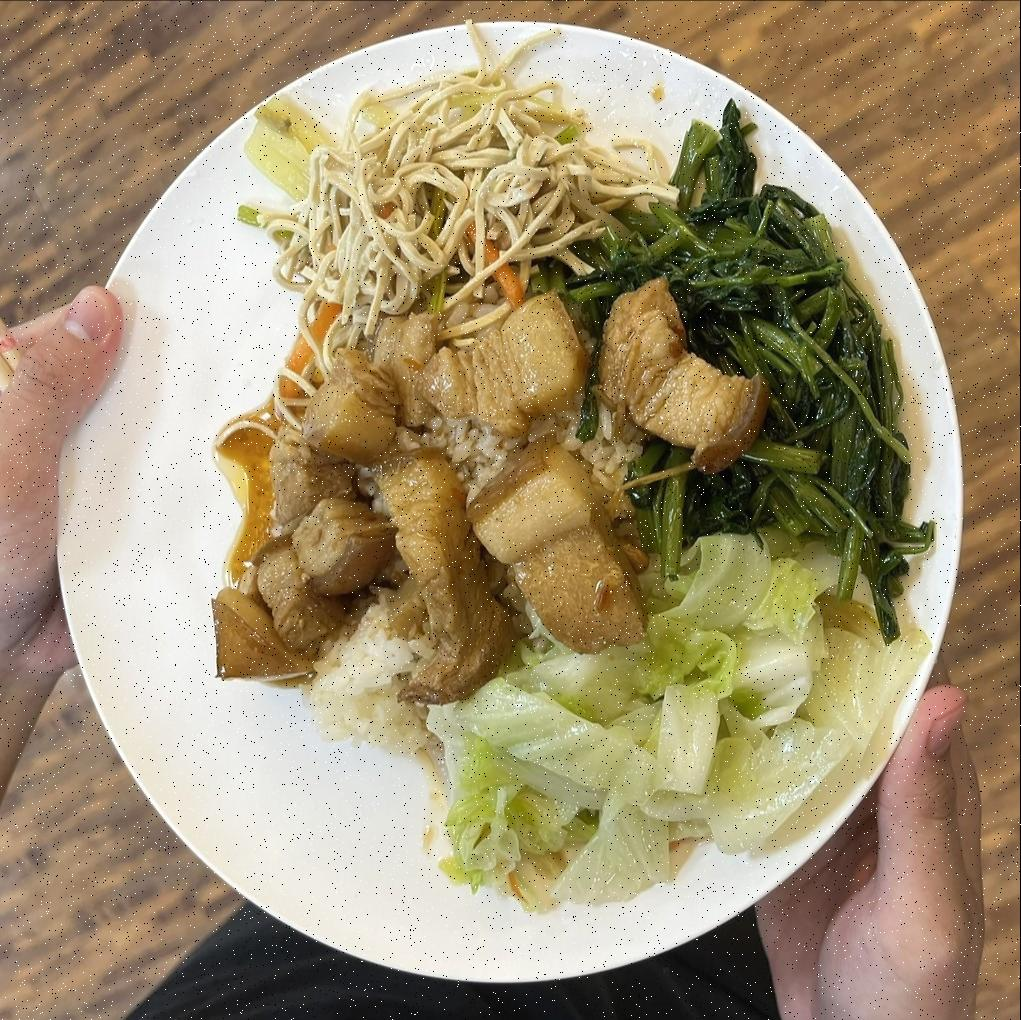braised pork: (206, 285, 744, 699)
plate: (56, 25, 967, 989)
side dish: (428, 545, 902, 910), (588, 130, 910, 549), (253, 62, 618, 316)
white rice: (301, 318, 647, 748)
